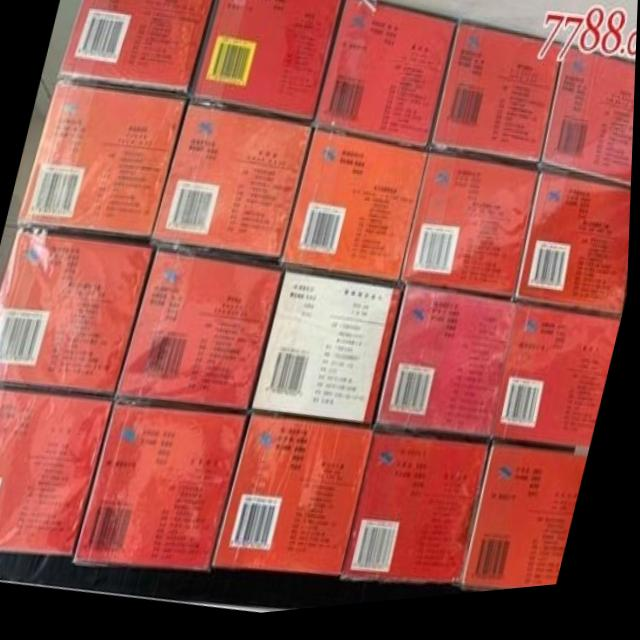box: (78, 406, 250, 575), (118, 252, 285, 417), (18, 81, 187, 243), (216, 419, 378, 584), (0, 229, 156, 398), (152, 107, 313, 267), (254, 276, 406, 432), (345, 440, 494, 594), (314, 0, 459, 158), (283, 136, 430, 291), (379, 293, 518, 448), (402, 161, 541, 310), (428, 29, 564, 177), (189, 0, 345, 127), (0, 390, 115, 556), (494, 312, 623, 458), (466, 454, 591, 599), (516, 183, 633, 331), (57, 0, 215, 98), (540, 57, 636, 201)
